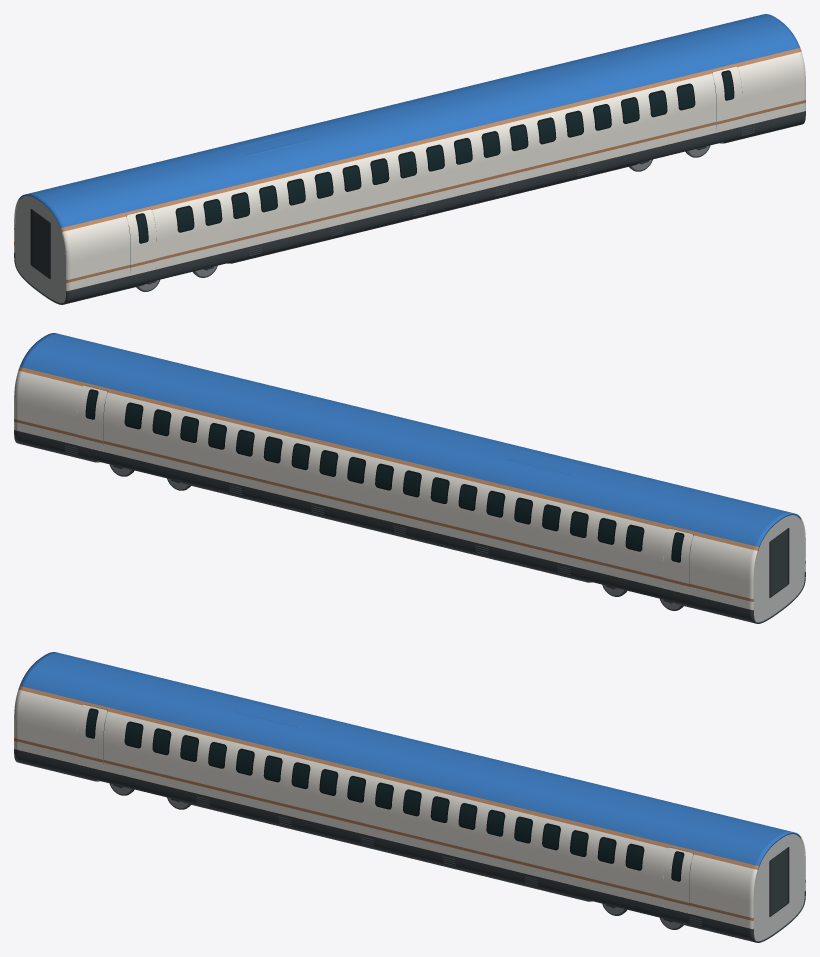
The model's file is express-short-middle.glb.
The picture shows the model from 3 angles, top to bottom: view 1: azimuth 30°, elevation 25°; view 2: azimuth 150°, elevation 25°; view 3: azimuth 330°, elevation 25°; orthographic projection.
Parts seen in each view (by area): view 1: body, door_right_front, door_right_rear; view 2: body, door_left_front, door_left_rear; view 3: body, door_right_rear, door_right_front.
Boxes of the visible parts, x1,y1,x2,y2 form: body: (14,14,805,304); door_right_front: (712,66,742,132); door_right_rear: (127,209,156,275); body: (14,333,805,623); door_left_front: (77,385,107,451); door_left_rear: (663,528,692,594); body: (14,652,805,942); door_right_rear: (77,704,107,770); door_right_front: (663,847,692,913).
Bounding box in the file's own units: 27 × 3.65 × 3.41.
